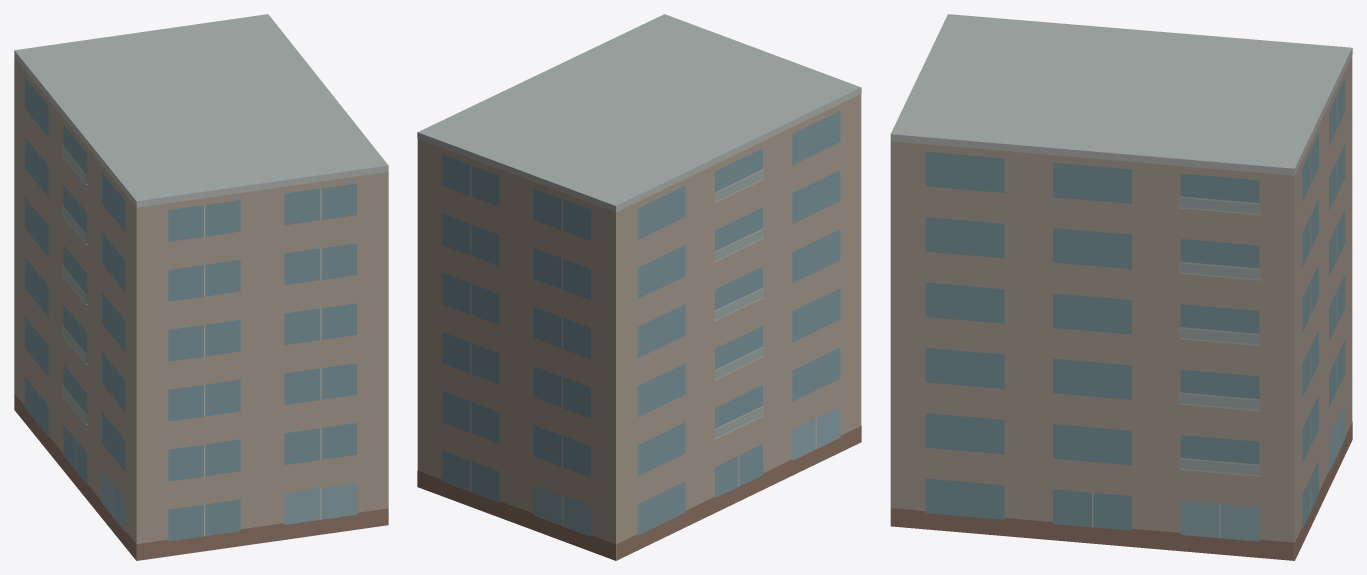
File: survey-upis-32952549.glb
3 views of the same model, side by side, from view 1: azimuth 30°, elevation 25°; view 2: azimuth 150°, elevation 25°; view 3: azimuth 270°, elevation 25° (orthographic). The views are drawn at different scales.
Visible parts, largest first — view 1: survey-upis-32952549.tmp; view 2: survey-upis-32952549.tmp; view 3: survey-upis-32952549.tmp.
Part boxes in pixels (x1,y1,x2,y2): survey-upis-32952549.tmp: (14, 14, 388, 560); survey-upis-32952549.tmp: (417, 14, 861, 560); survey-upis-32952549.tmp: (890, 14, 1352, 560).
Bounding box in the file's own units: 11.48 × 13.55 × 14.48.
